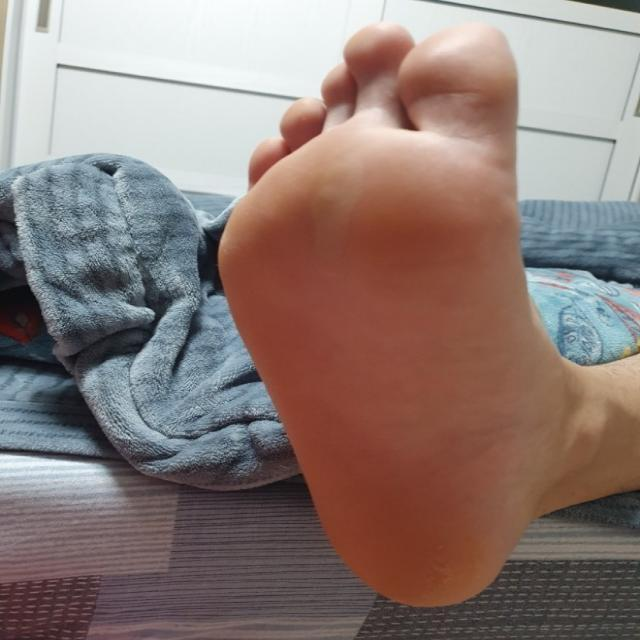Barefoots: (217, 9, 554, 616)
